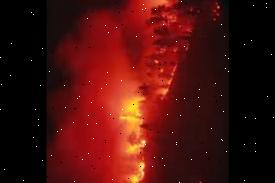fire: (113, 86, 151, 183), (154, 0, 185, 99)
